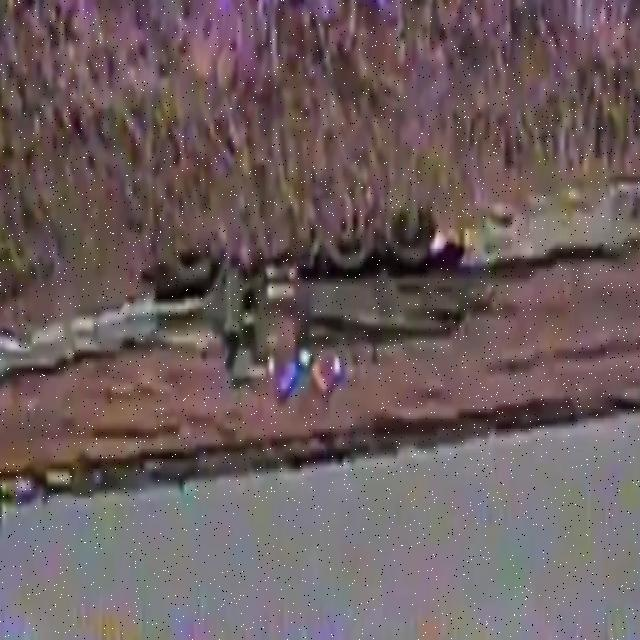TRUCK: (155, 197, 491, 401)
